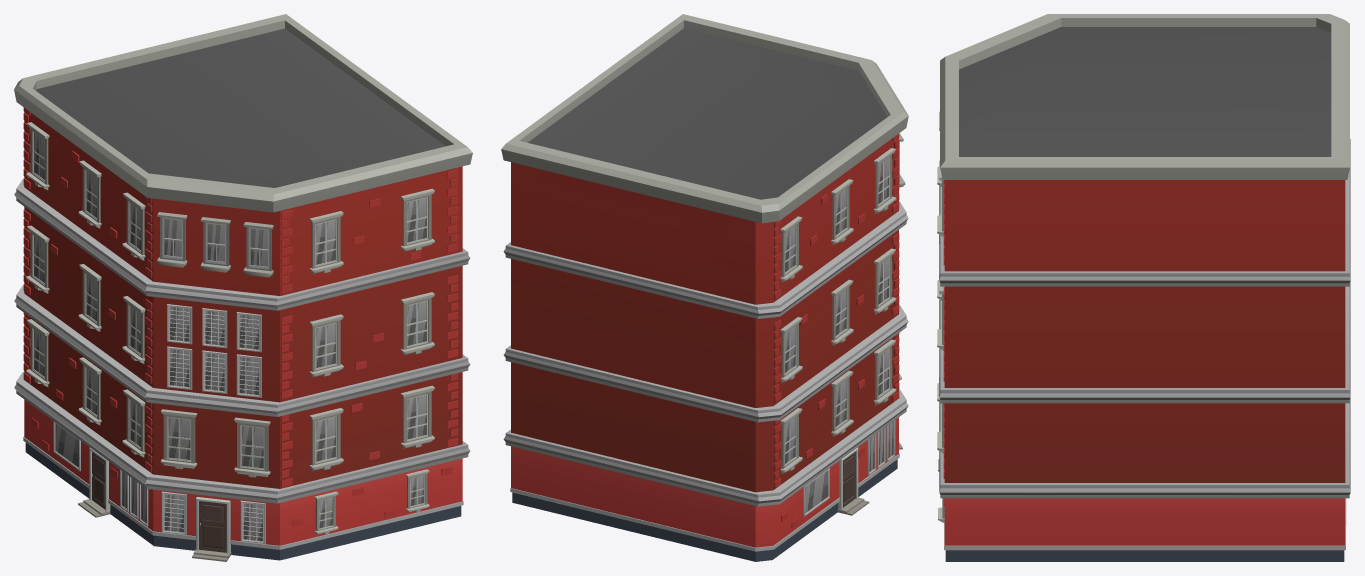
Rendered from Building_25_2_A.fbx.
The picture shows the model from 3 angles, left to right: view 1: azimuth 30°, elevation 25°; view 2: azimuth 150°, elevation 25°; view 3: azimuth 270°, elevation 25°; orthographic projection. The views are drawn at different scales.
Parts seen in each view (by area): view 1: Building_25_2_A; view 2: Building_25_2_A; view 3: Building_25_2_A.
Part boxes in pixels (x1,y1,x2,y2): Building_25_2_A: [14, 14, 472, 561]; Building_25_2_A: [501, 14, 908, 561]; Building_25_2_A: [937, 14, 1350, 561].
Size of the model in its own units: 1291 by 1596 by 1479.
